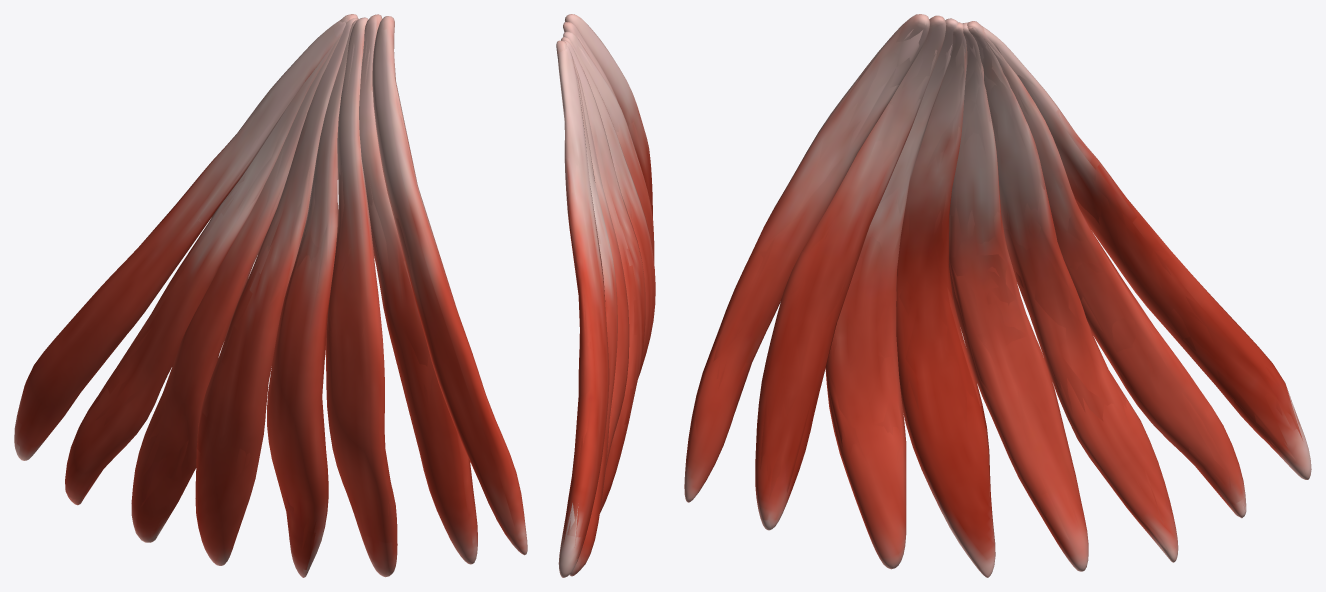
File: R Serratus Ventralis thoracis.fbx
The picture shows the model from 3 angles, left to right: view 1: azimuth 30°, elevation 25°; view 2: azimuth 150°, elevation 25°; view 3: azimuth 270°, elevation 25°; orthographic projection. The views are drawn at different scales.
Parts seen in each view (by area): view 1: R Serratus Ventralis thoracis, R Serratus Ventralis thoracis low; view 2: R Serratus Ventralis thoracis, R Serratus Ventralis thoracis low; view 3: R Serratus Ventralis thoracis, R Serratus Ventralis thoracis low.
Part boxes in pixels (x1,y1,x2,y2): R Serratus Ventralis thoracis: (14, 14, 527, 577); R Serratus Ventralis thoracis low: (23, 15, 521, 565); R Serratus Ventralis thoracis: (556, 14, 655, 577); R Serratus Ventralis thoracis low: (558, 23, 653, 575); R Serratus Ventralis thoracis: (684, 14, 1311, 577); R Serratus Ventralis thoracis low: (690, 17, 1305, 569).
Bounding box in the file's own units: 17.76 × 45.59 × 42.79.
